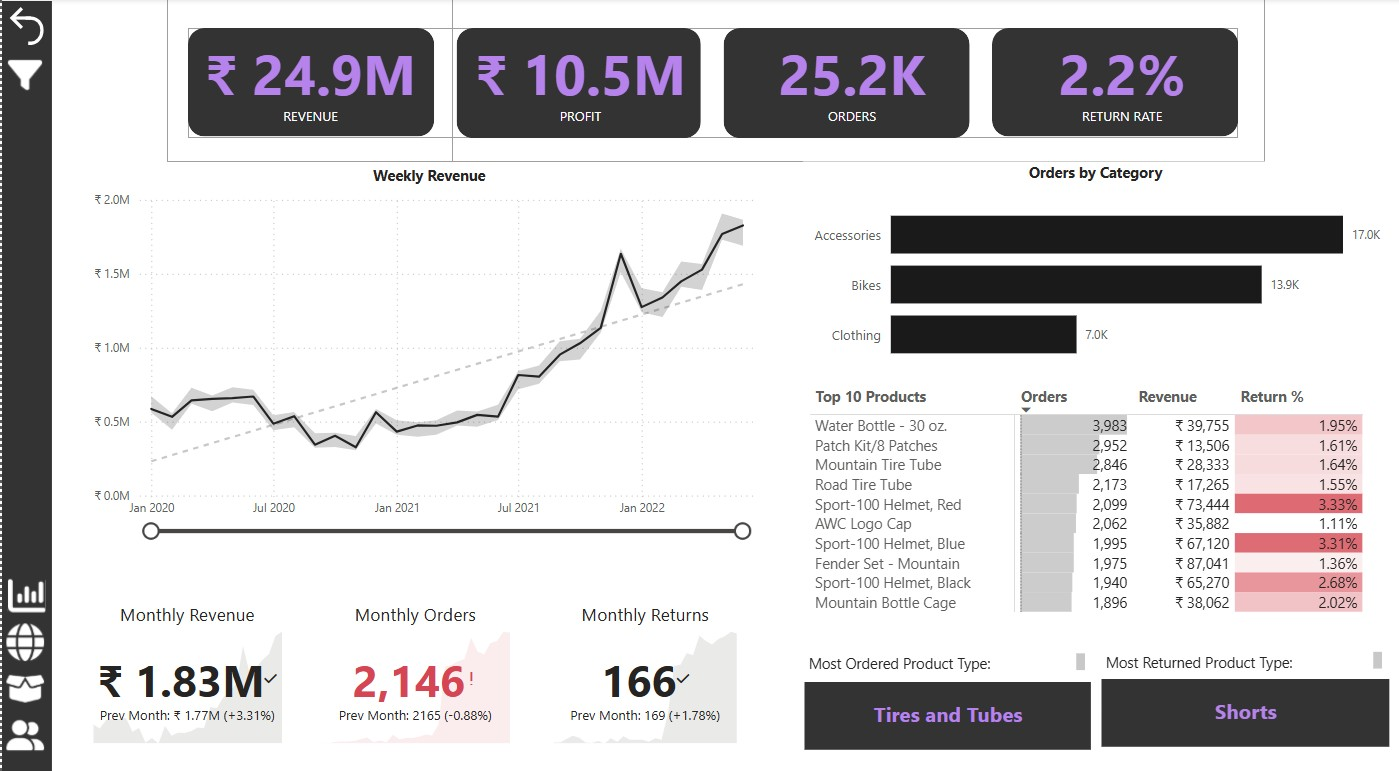

The page's visual inventory and layout, read from the dashboard file:
{"tool":"powerbi","page":{"name":"Exec Dashboard","canvas":[1280,720],"ordinal":0},"visuals":[{"type":"card","fields":{"Values":["Measure Table.Total Revenue"]},"box":[151,0,262.1,149.6],"z":0,"group":"g2"},{"type":"group","id":"g1","title":"KPI Background","box":[169.7,26.8,960.8,100.8],"z":0,"group":"g3"},{"type":"shape","box":[169.7,26.8,225.2,99.2],"z":0,"group":"g1"},{"type":"actionButton","box":[1.6,526.1,64.6,42.5],"z":0,"group":"g4"},{"type":"group","id":"g2","title":"KPI Values","box":[151,0,1004.2,149.6],"z":1000,"group":"g3"},{"type":"card","fields":{"Values":["Measure Table.Return Rate"]},"box":[893,0,262.1,149.6],"z":1000,"group":"g2"},{"type":"shape","title":"Left Nav Background","box":[0,3.2,45.7,716.7],"z":1000},{"type":"shape","box":[415.4,26.8,223.7,100.8],"z":1000,"group":"g1"},{"type":"actionButton","box":[0,568.6,64.6,42.5],"z":1000,"group":"g4"},{"type":"group","id":"g3","title":"KPIs","box":[151,0,1004.5,149.6],"z":2000},{"type":"card","fields":{"Values":["Measure Table.Total Orders"]},"box":[646,0,262.1,149.6],"z":2000,"group":"g2"},{"type":"shape","box":[659.6,26.8,225.2,100.8],"z":2000,"group":"g1"},{"type":"actionButton","box":[0,611.2,64.6,42.5],"z":2000,"group":"g4"},{"type":"card","fields":{"Values":["Measure Table.Total Profit"]},"box":[398.5,0,262.1,149.6],"z":3000,"group":"g2"},{"type":"shape","box":[905.3,26.8,225.2,99.2],"z":3000,"group":"g1"},{"type":"lineChart","title":"Weekly Revenue","fields":{"Y":["Measure Table.Total Revenue"],"Category":["Calendar Lookup.Start of Month"]},"box":[78.8,152.8,625.3,346.5],"z":3000},{"type":"actionButton","box":[0,653.7,64.6,42.5],"z":3000,"group":"g4"},{"type":"kpi","title":"Monthly Revenue","fields":{"Indicator":["Measure Table.Total Revenue"],"TrendLine":["Calendar Lookup.Start of Month"],"Goal":["Measure Table.Previous month revenue"]},"box":[78.8,552.9,182.7,133.9],"z":4000},{"type":"kpi","title":"Monthly Returns","fields":{"TrendLine":["Calendar Lookup.Start of Month"],"Indicator":["Measure Table.Total Returns"],"Goal":["Measure Table.Previous Month Returns"]},"box":[499.3,552.9,178,133.9],"z":5000},{"type":"kpi","title":"Monthly Orders","fields":{"TrendLine":["Calendar Lookup.Start of Month"],"Indicator":["Measure Table.Total Orders"],"Goal":["Measure Table.Previous Month Orders"]},"box":[286.7,552.9,182.7,133.9],"z":6000},{"type":"clusteredBarChart","title":"Orders by Category","fields":{"Category":["Product Categories Lookup.CategoryName"],"Y":["Measure Table.Total Orders"]},"box":[732.8,149.6,535.2,200.4],"z":7000},{"type":"pivotTable","fields":{"Rows":["Product Lookup.ProductName"],"Values":["Measure Table.Total Orders","Measure Table.Total Revenue","Measure Table.Return Rate"]},"box":[734,349.7,545,220.5],"z":8000},{"type":"card","fields":{"Values":["Min(Product Subcategories Lookup.SubcategoryName)"]},"box":[734.2,625.8,262.1,61.8],"z":9000},{"type":"textbox","box":[732.4,593.8,263,26.8],"z":10000},{"type":"card","fields":{"Values":["Min(Product Subcategories Lookup.SubcategoryName)"]},"box":[1005.9,623,263.5,61.8],"z":11000},{"type":"textbox","box":[1004.9,593.3,263,26.8],"z":12000},{"type":"actionButton","box":[0,0,45.7,50.4],"z":13000},{"type":"group","id":"g4","title":"Navigation Buttons","box":[0,526.1,66.2,170.1],"z":14000},{"type":"actionButton","box":[1.6,50.4,47.3,39.4],"z":15000}]}

Visuals, with their boxes on the page's 1280x720 design canvas (x1, y1, x2, y2). These are canvas units, not pixel positions in the 1399x771 screenshot, which may show the page scaled, cropped or inside an application window:
card - Measure Table.Total Revenue: 151:0:413:150
"KPI Background" group: 170:27:1130:128
shape: 170:27:395:126
actionButton: 2:526:66:569
"KPI Values" group: 151:0:1155:150
card - Measure Table.Return Rate: 893:0:1155:150
"Left Nav Background" shape: 0:3:46:720
shape: 415:27:639:128
actionButton: 0:569:65:611
"KPIs" group: 151:0:1156:150
card - Measure Table.Total Orders: 646:0:908:150
shape: 660:27:885:128
actionButton: 0:611:65:654
card - Measure Table.Total Profit: 398:0:661:150
shape: 905:27:1130:126
"Weekly Revenue" lineChart: 79:153:704:499
actionButton: 0:654:65:696
"Monthly Revenue" kpi: 79:553:262:687
"Monthly Returns" kpi: 499:553:677:687
"Monthly Orders" kpi: 287:553:469:687
"Orders by Category" clusteredBarChart: 733:150:1268:350
pivotTable - Product Lookup.ProductName x Measure Table.Total Orders: 734:350:1279:570
card - Min(Product Subcategories Lookup.SubcategoryName): 734:626:996:688
textbox: 732:594:995:621
card - Min(Product Subcategories Lookup.SubcategoryName): 1006:623:1269:685
textbox: 1005:593:1268:620
actionButton: 0:0:46:50
"Navigation Buttons" group: 0:526:66:696
actionButton: 2:50:49:90
